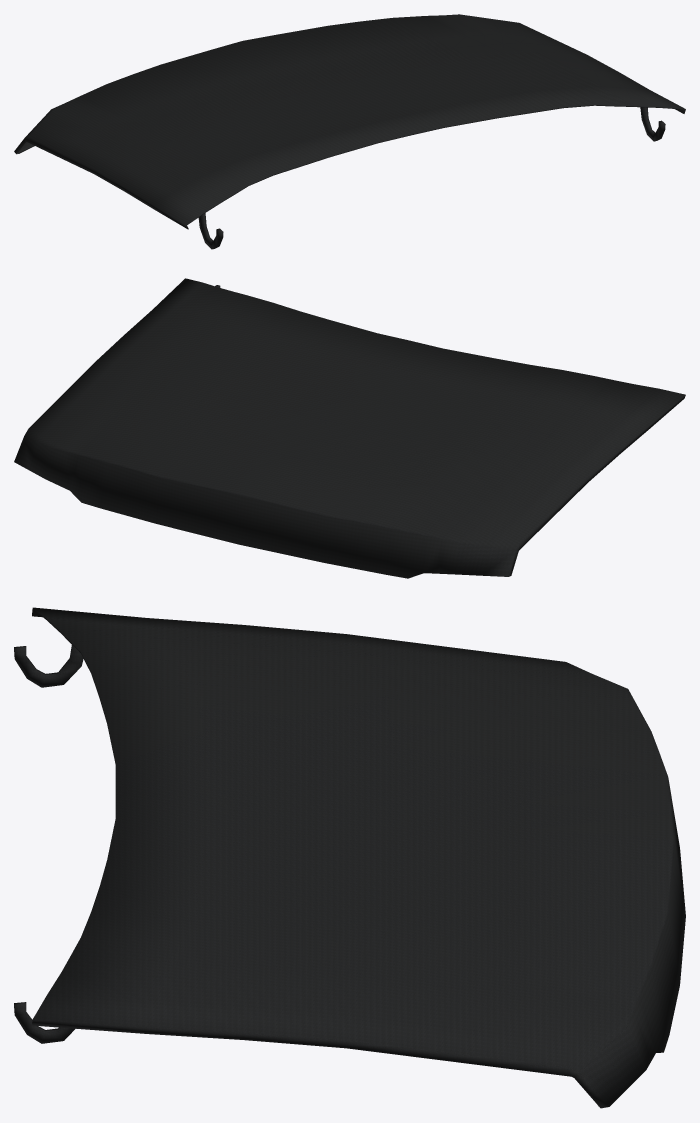
File: BP42_carbon_boot_lid.glb
3 views of the same model, one above another, from view 1: azimuth 30°, elevation 25°; view 2: azimuth 150°, elevation 25°; view 3: azimuth 270°, elevation 25° (orthographic). The views are drawn at different scales.
Visible parts, largest first — view 1: MOD_NA_BP42_panel; view 2: MOD_NA_BP42_panel; view 3: MOD_NA_BP42_panel.
Part boxes in pixels (box(x1,y1,x2,y2)): MOD_NA_BP42_panel: box(14, 14, 685, 249); MOD_NA_BP42_panel: box(14, 278, 685, 578); MOD_NA_BP42_panel: box(14, 607, 685, 1108).
Size of the model in its own units: 1.12 by 0.1786 by 0.7884.
Materials: 1 (1 with a texture image).
